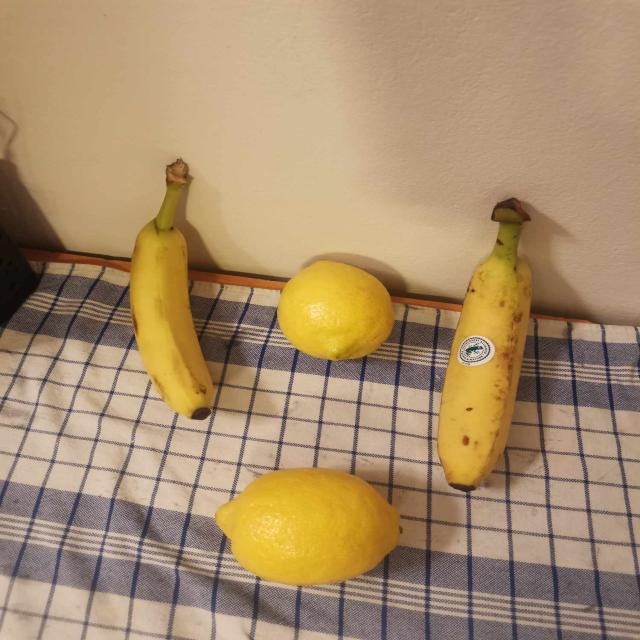banana: (437, 198, 532, 491), (130, 159, 213, 420)
lemon: (215, 468, 400, 585), (277, 260, 393, 360)
